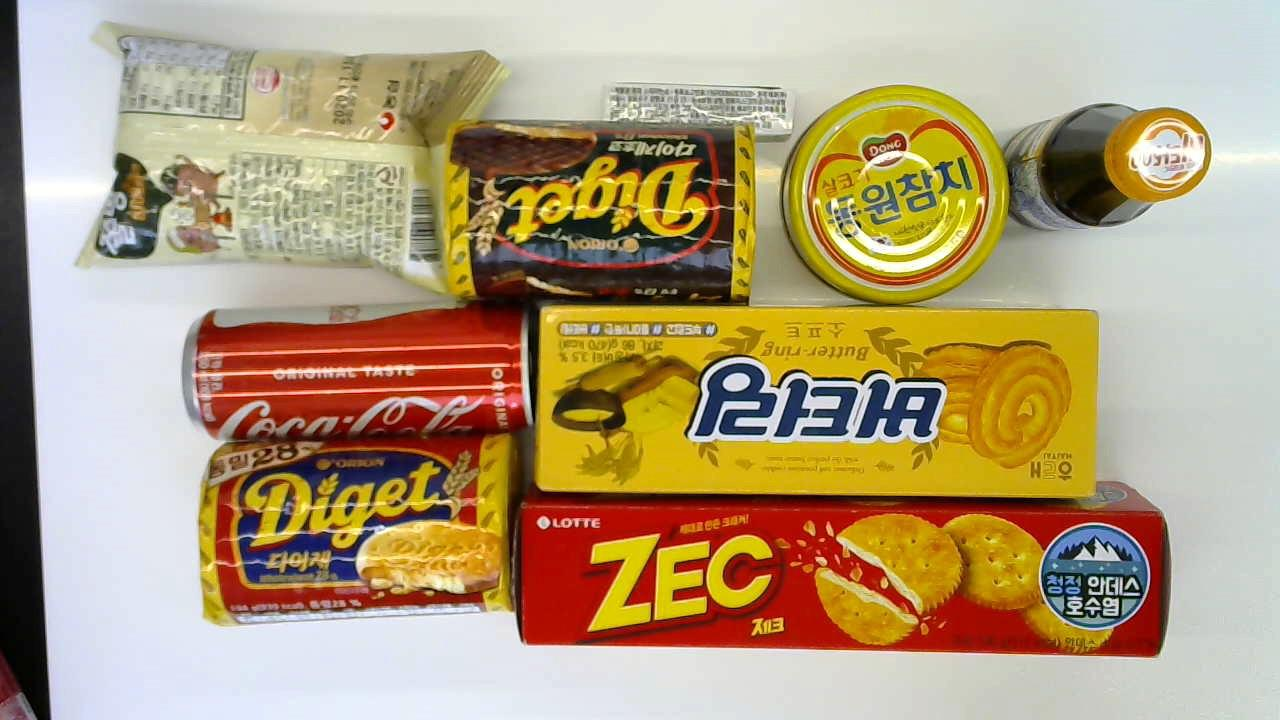buttering: (529, 305, 1101, 489)
coke: (180, 314, 532, 445)
diget_choco: (440, 107, 763, 302)
diget_ori: (204, 429, 516, 629)
jjolbyung_ori: (72, 12, 504, 311)
spearmint: (601, 77, 791, 139)
tuna: (775, 80, 1016, 306)
vita500: (1011, 94, 1217, 240)
zec: (513, 477, 1171, 658)
